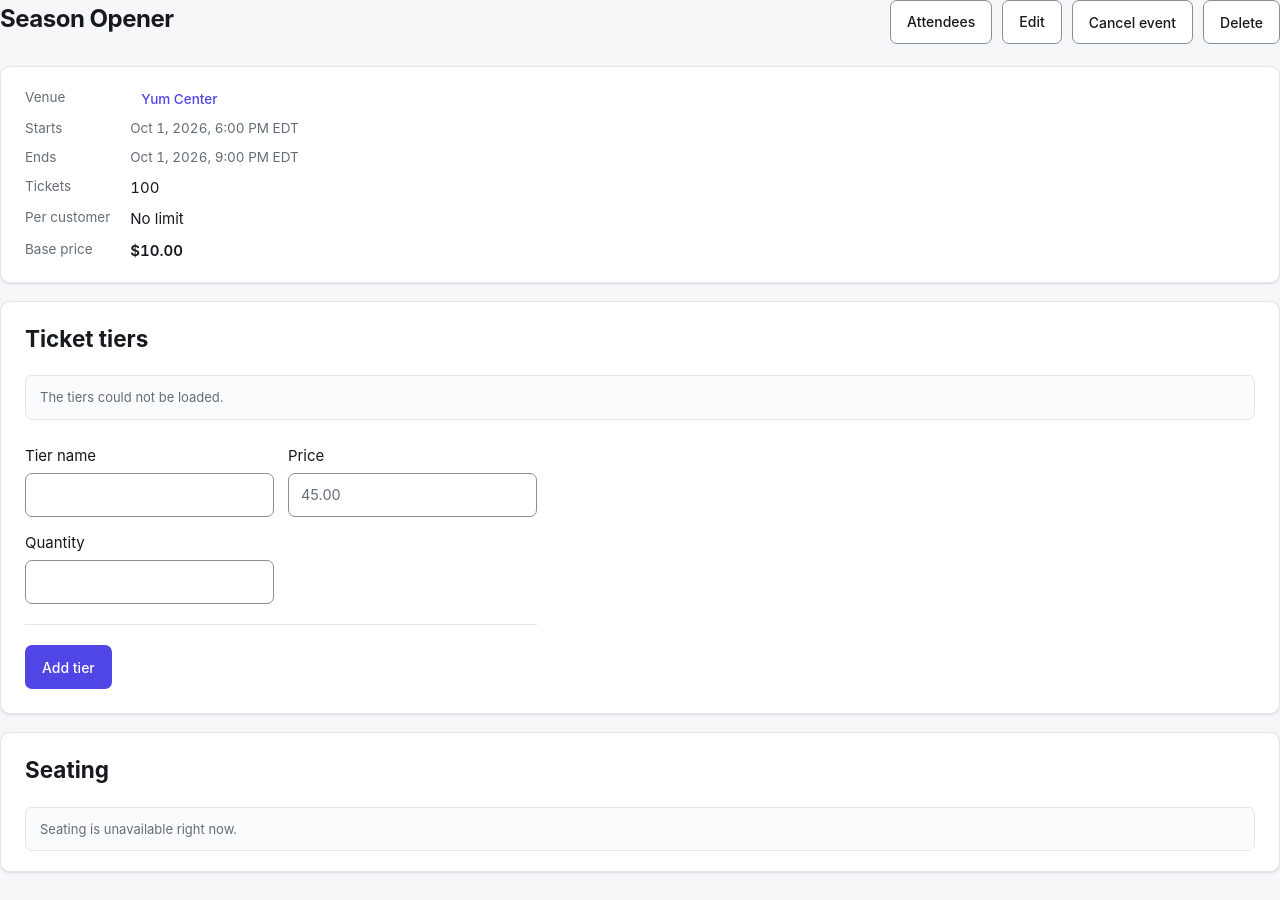
Test: Deleting an event › says plainly when the Backend cannot be reached
The image size is (1280, 900).
What coordinates should you click on to do the following:
click the button "Delete"
I would click on:
 (1242, 22)
Its box is [1203,0,1279,44].
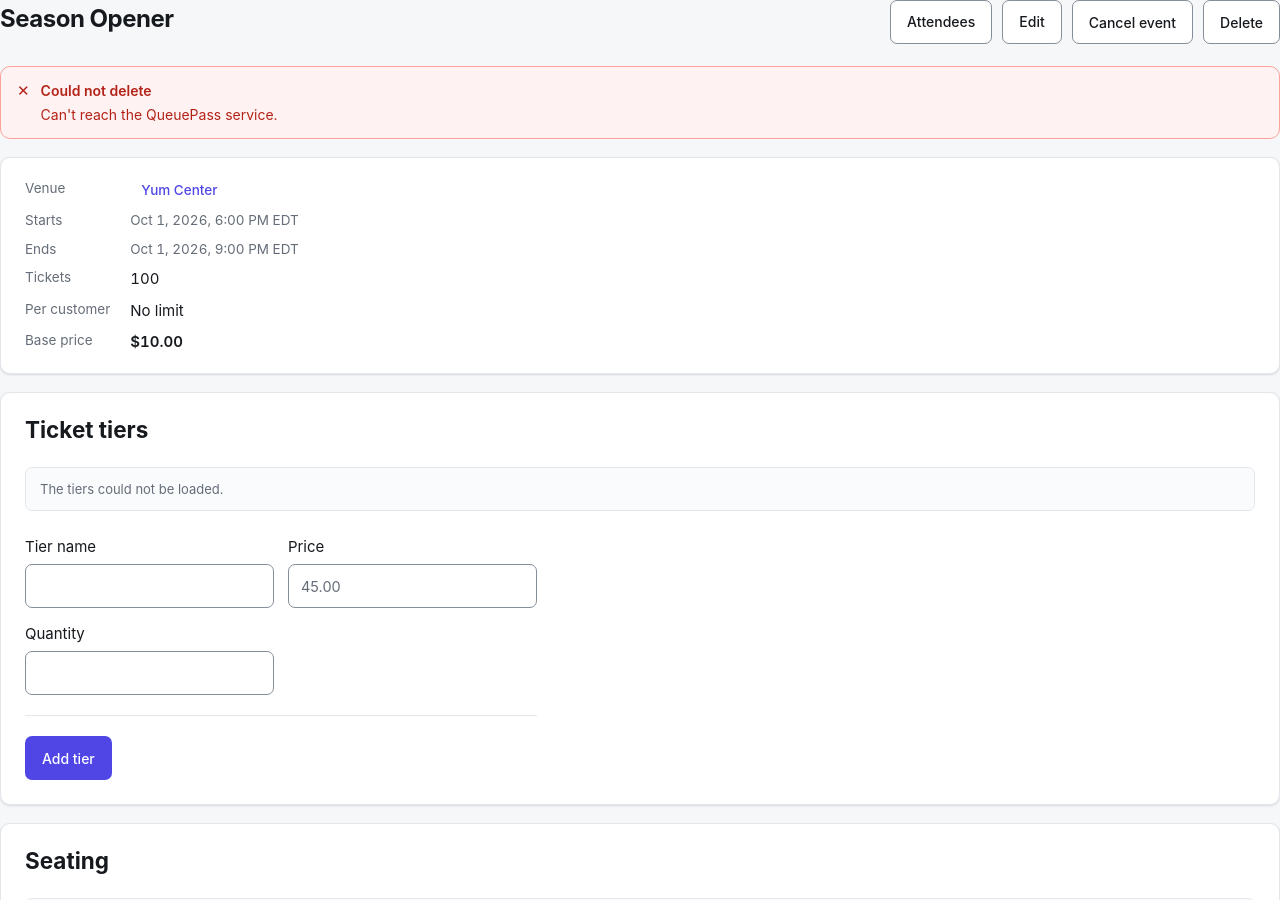
Now the message shows "Can't reach the QueuePass service.", box [41,106,278,123]
